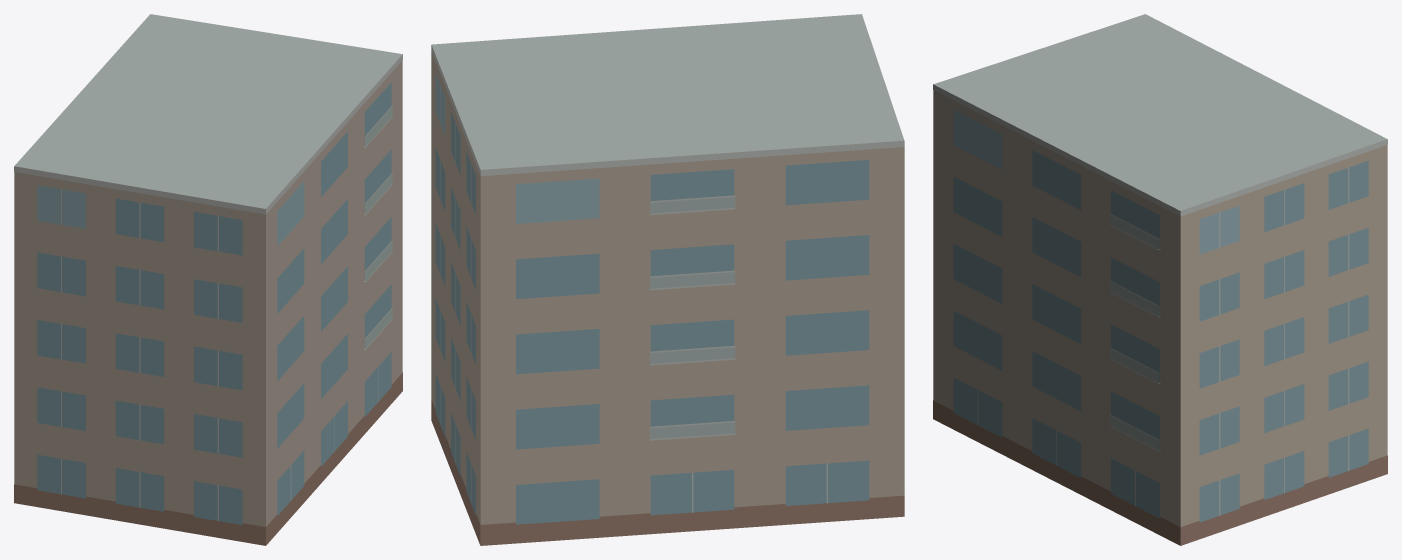
Rendered from survey-upis-32740600.glb.
The picture shows the model from 3 angles, left to right: view 1: azimuth 30°, elevation 25°; view 2: azimuth 150°, elevation 25°; view 3: azimuth 270°, elevation 25°; orthographic projection. The views are drawn at different scales.
Visible parts, largest first — view 1: survey-upis-32740600.tmp; view 2: survey-upis-32740600.tmp; view 3: survey-upis-32740600.tmp.
Boxes of the visible parts, left/top/right/bottom form: survey-upis-32740600.tmp: left=14, top=14, right=402, bottom=545; survey-upis-32740600.tmp: left=431, top=14, right=904, bottom=545; survey-upis-32740600.tmp: left=933, top=14, right=1387, bottom=545.
Size of the model in its own units: 18.5 by 14.65 by 18.03.
